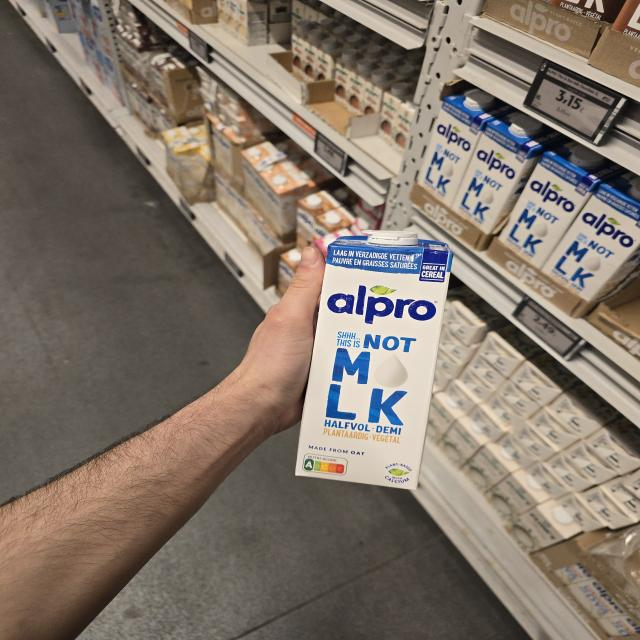Milk: (294, 231, 453, 490)
